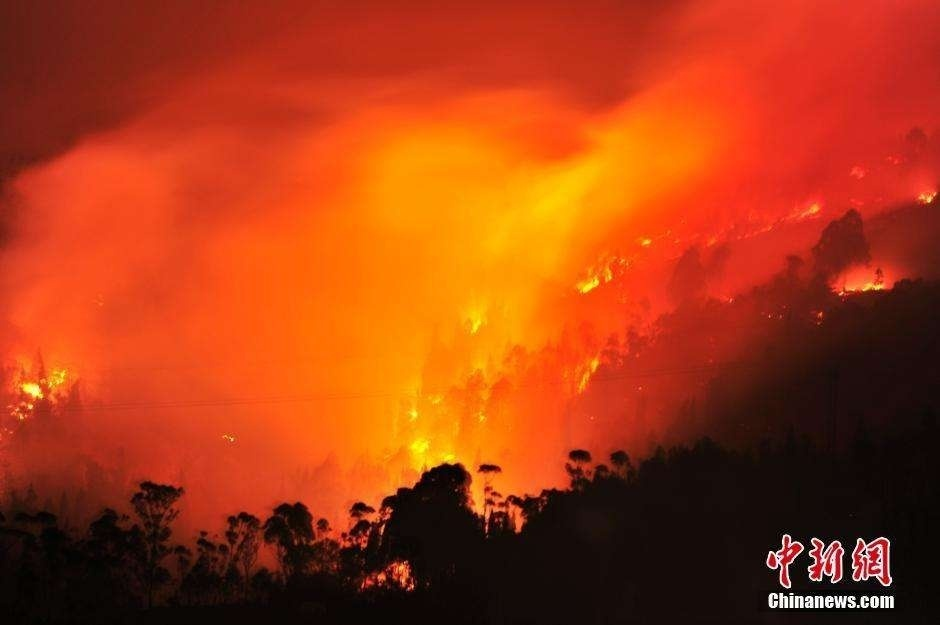fire: (397, 289, 505, 469), (1, 345, 78, 432), (566, 230, 645, 300), (830, 262, 894, 296), (567, 349, 607, 398)
